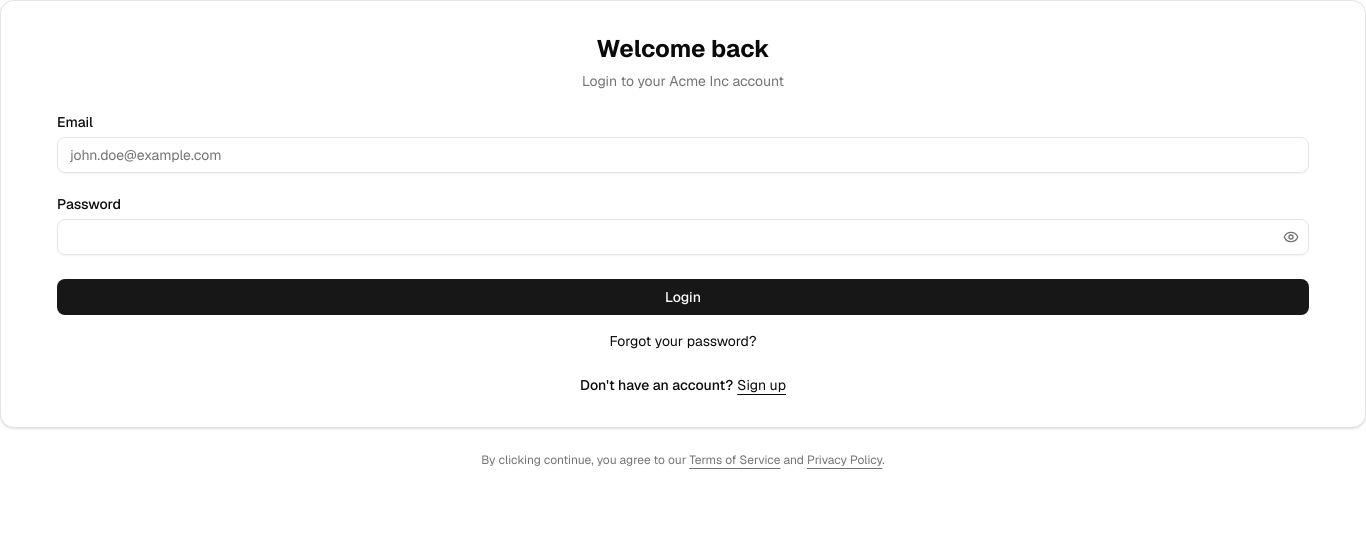
Render Login Form › should show error message when fields are empty
Click the button "Login".
click(683, 297)  # box [57,279,1309,315]
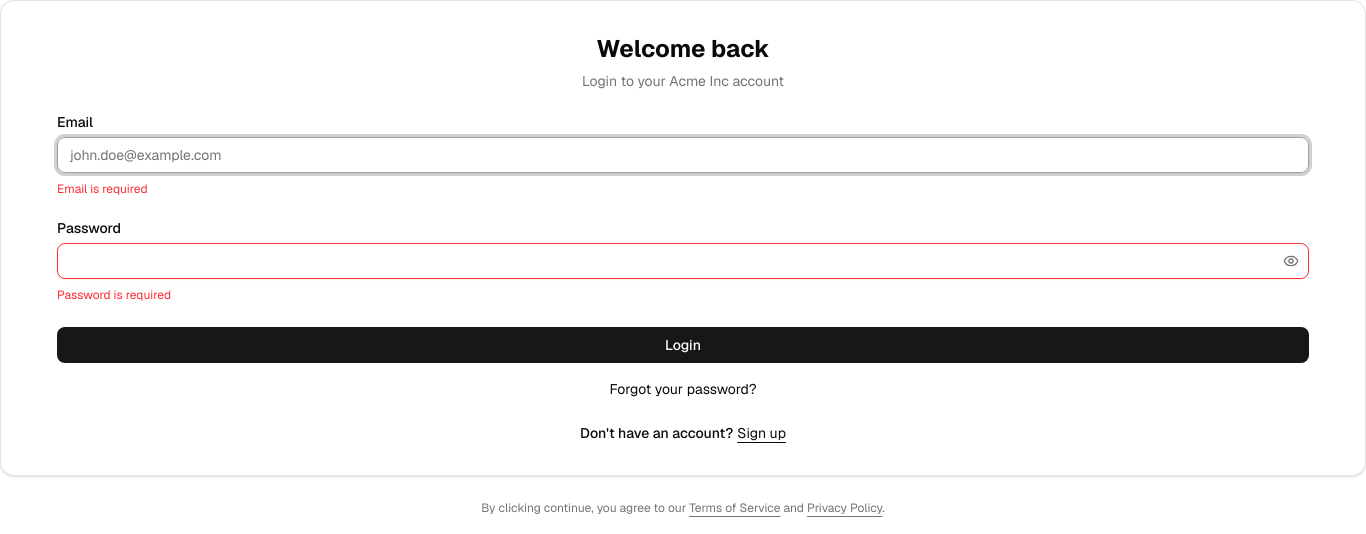
Now the text "Email is required" is shown, box [57,181,148,197]
Now the text "Password is required" is shown, box [57,287,171,303]
